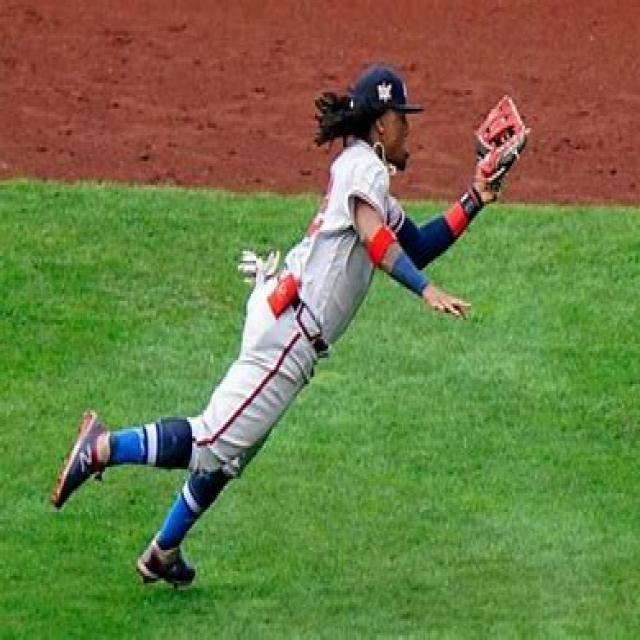glove: (473, 92, 530, 200)
